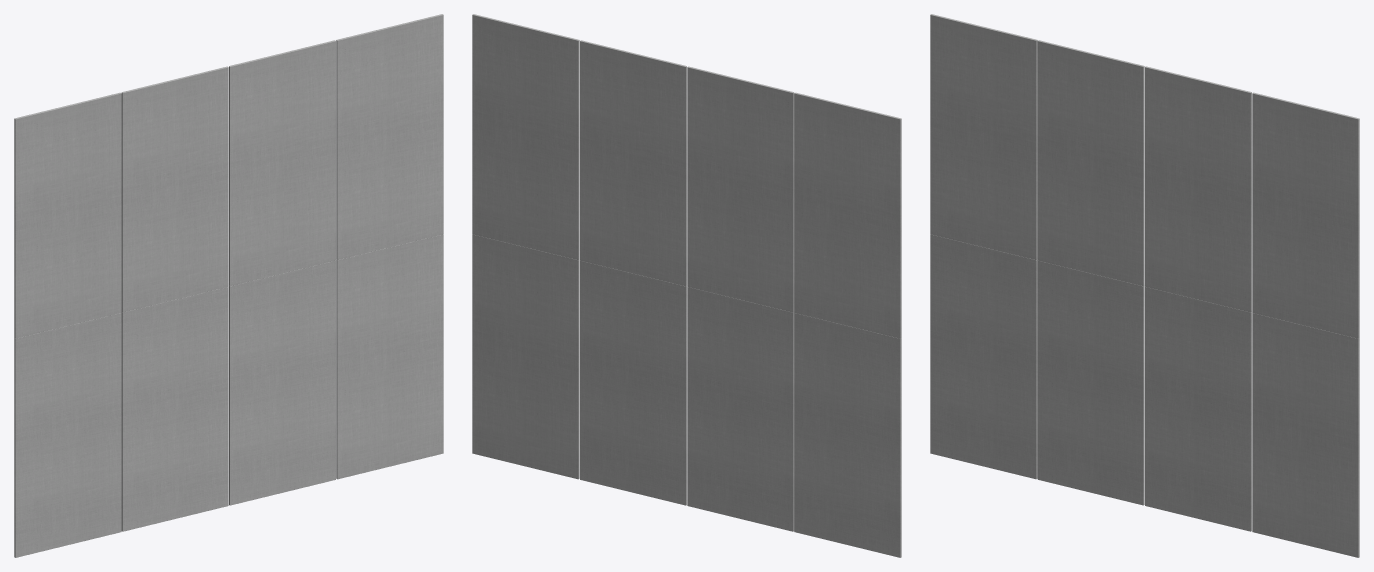
Rendered from main11.glb.
3 renders of one model, left to right at view 1: azimuth 30°, elevation 25°; view 2: azimuth 150°, elevation 25°; view 3: azimuth 330°, elevation 25°, orthographic.
Parts seen in each view (by area): view 1: Rectangle2100484236; view 2: Rectangle2100484236; view 3: Rectangle2100484236.
Boxes of the visible parts, x1,y1,x2,y2 form: Rectangle2100484236: [14, 14, 443, 557]; Rectangle2100484236: [472, 14, 901, 557]; Rectangle2100484236: [930, 14, 1359, 557].
Size of the model in its own units: 2.41 by 2.36 by 0.0121.
Materials: 1 (1 with a texture image).
